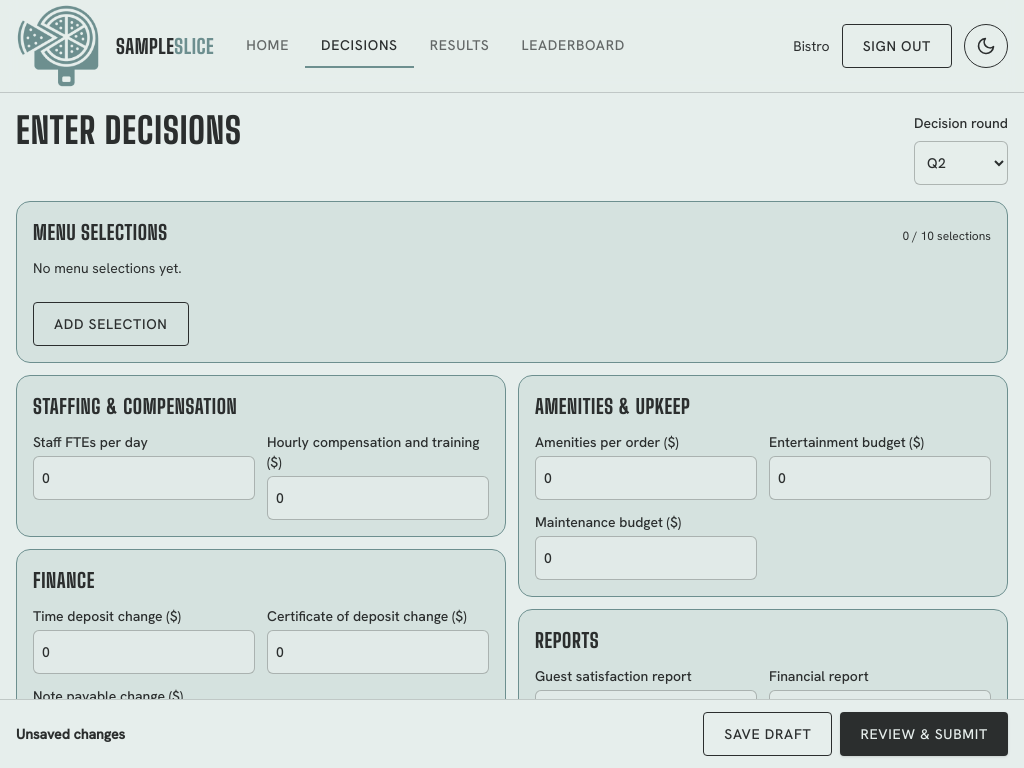
Test: keeps edits made during a save and sends the next revision in a later autosave
Expected: the heading "Enter Decisions" is shown, left=16, top=113, right=242, bottom=149
Replace the text in the number field labelled "Staff FTEs per day" with "3" at (144, 478), box left=33, top=456, right=255, bottom=500
Wait 1200 ms
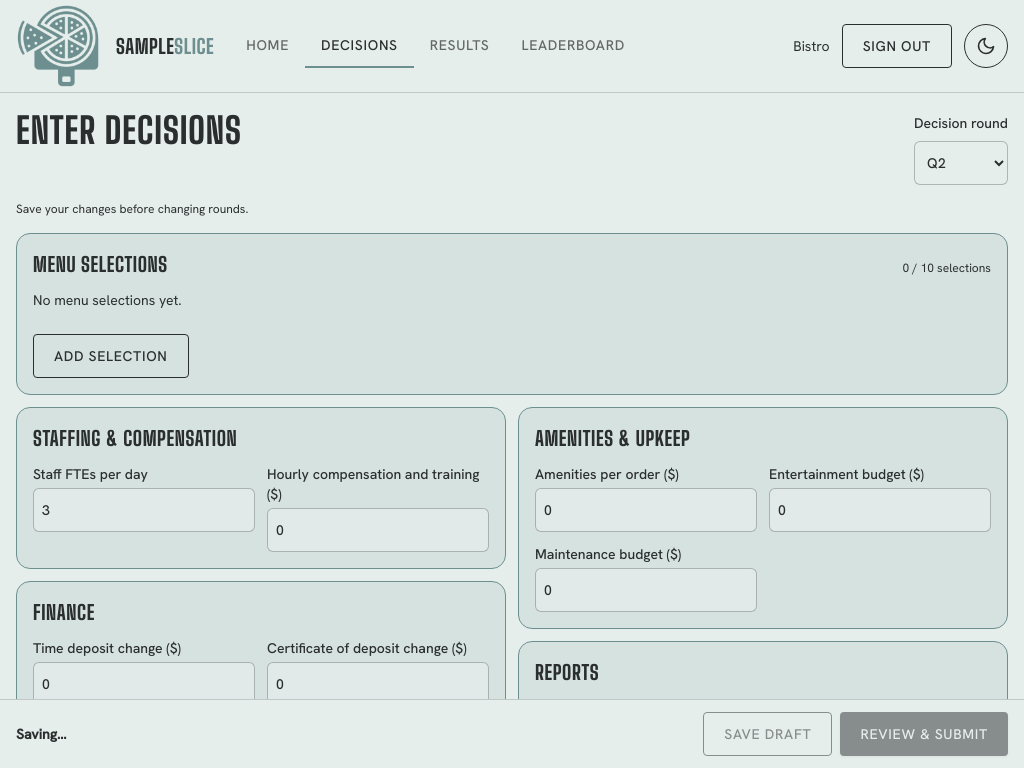
Expected: the text "Saving…" is shown, left=16, top=724, right=66, bottom=744
Replace the text in the number field labelled "Staff FTEs per day" with "4" at (144, 510), box left=33, top=488, right=255, bottom=532
Wait 1200 ms
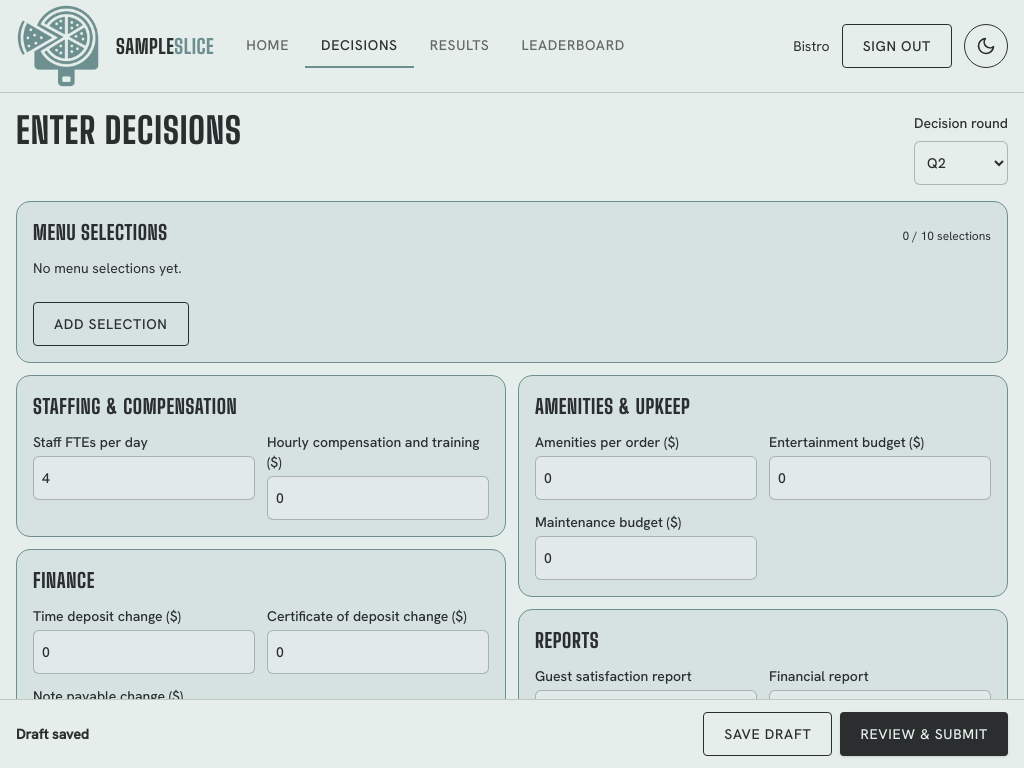
Expected: the text "Draft saved" is shown, left=16, top=724, right=89, bottom=744
